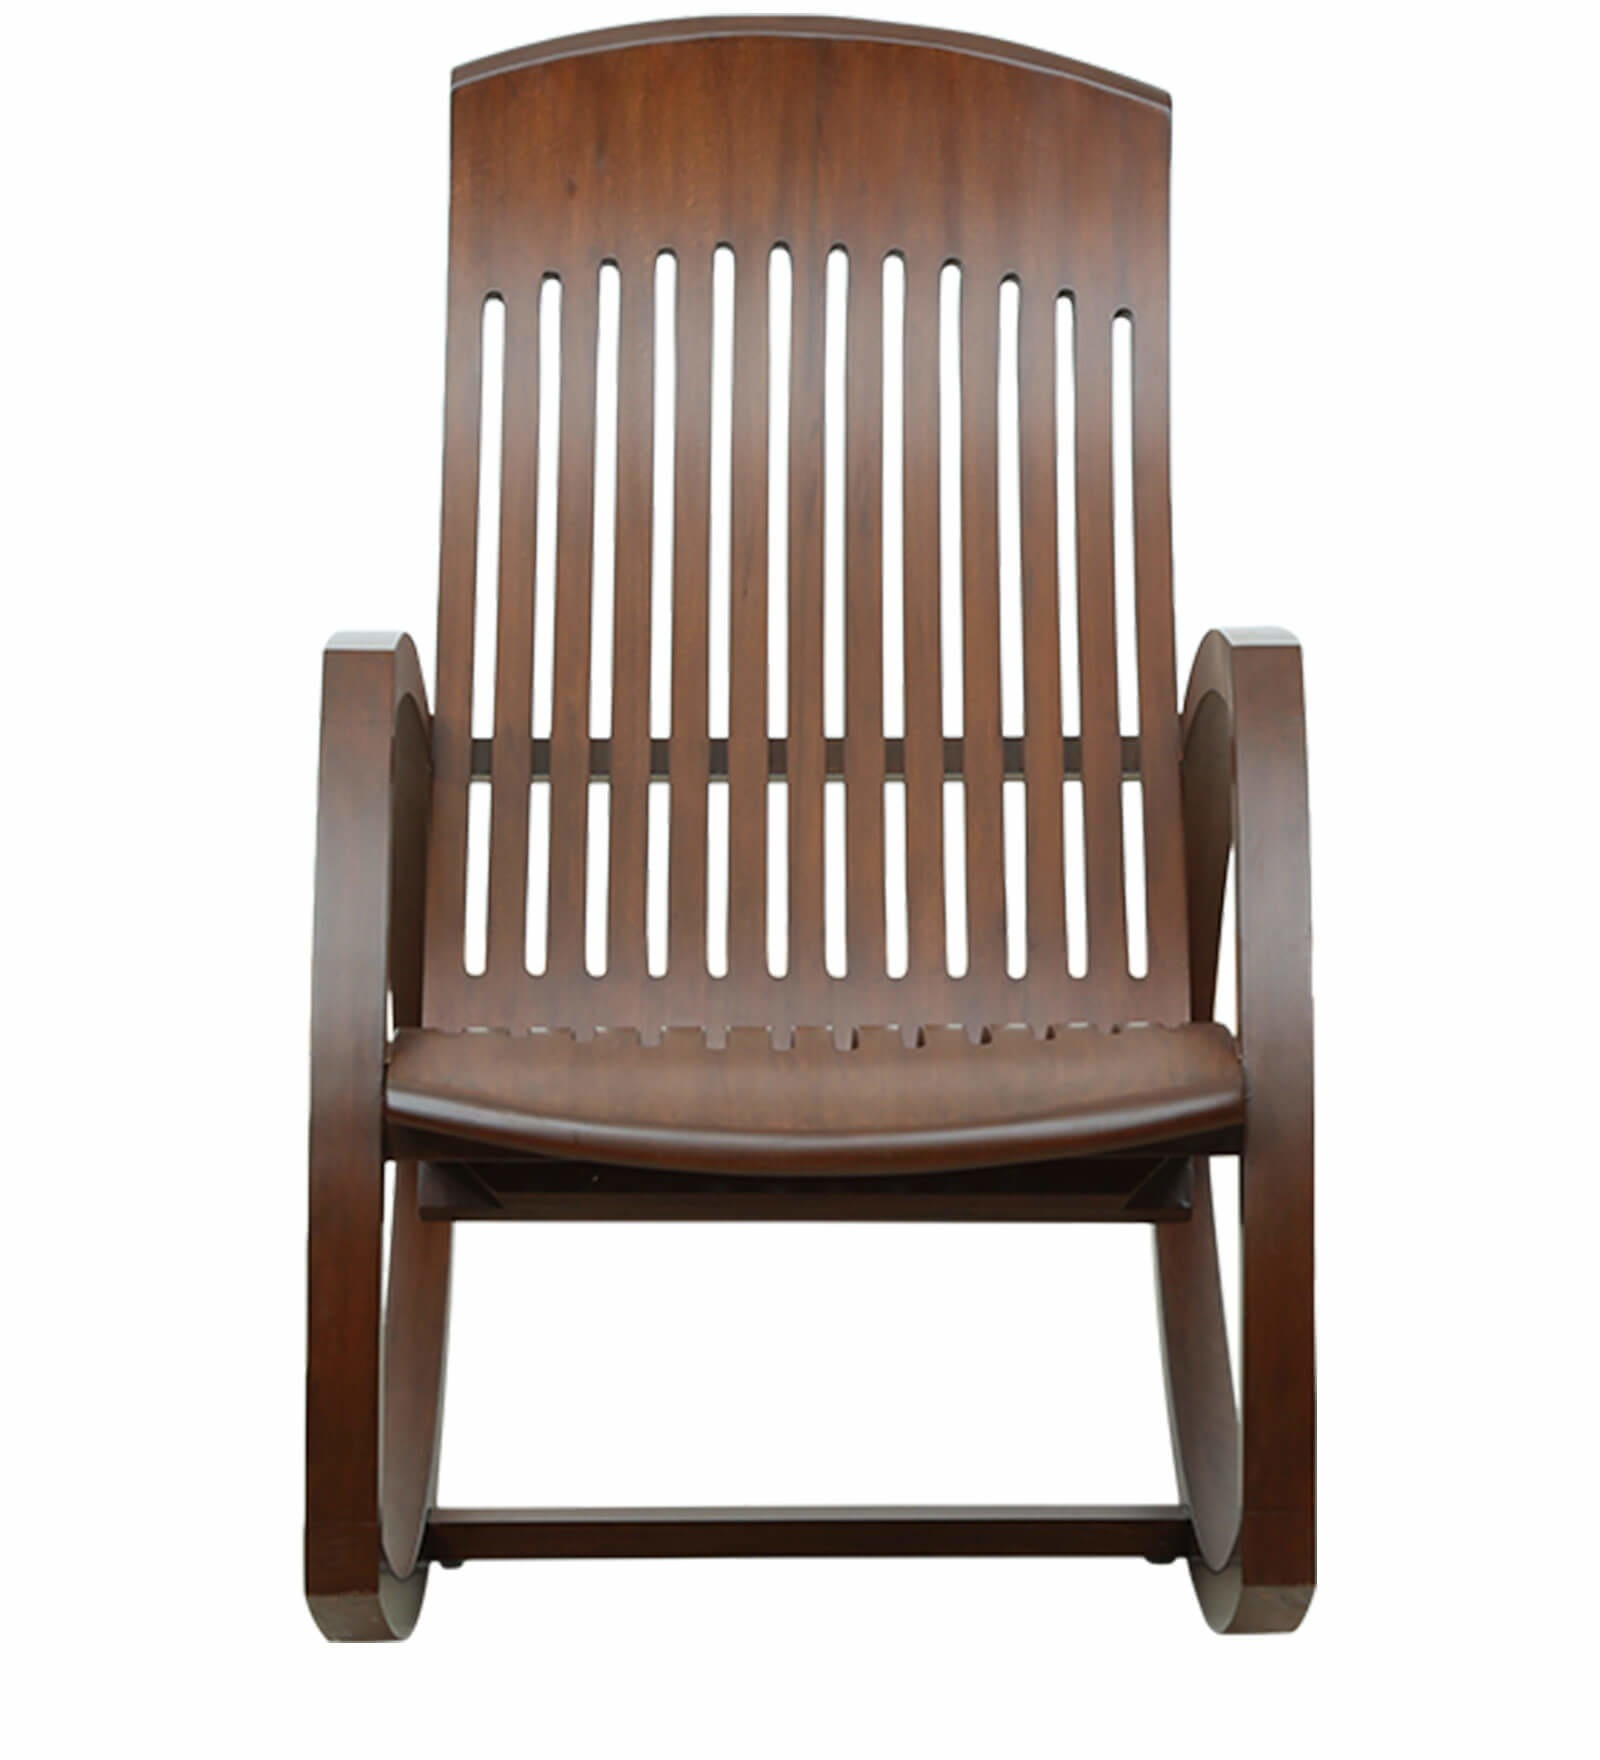Gaivota Rocking Chair in Semi-Gloss Walnut Finish by INDOORS: (271, 8, 1358, 1685)
